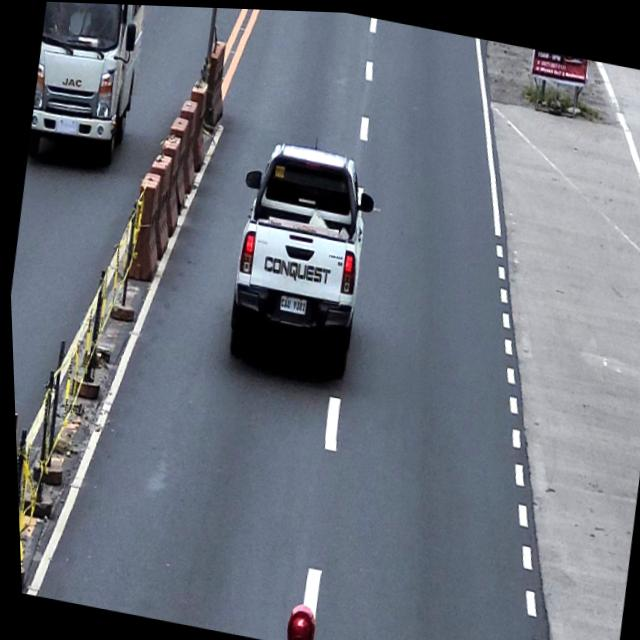Car: (211, 130, 388, 390)
License-Plate: (276, 291, 306, 316), (52, 115, 81, 139)
Truck: (23, 1, 157, 170)
